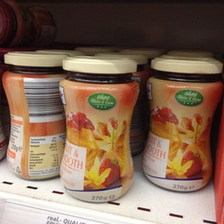jam: (57, 56, 140, 204), (143, 57, 224, 195), (2, 52, 66, 181)
